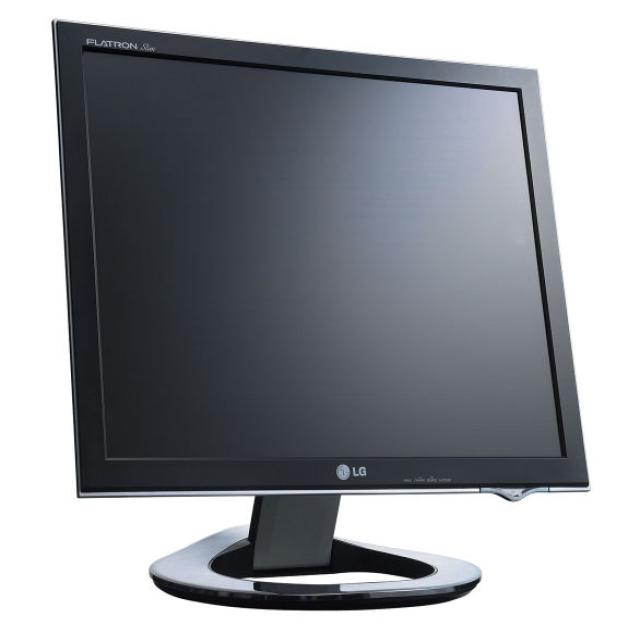monitor: (44, 12, 596, 616)
